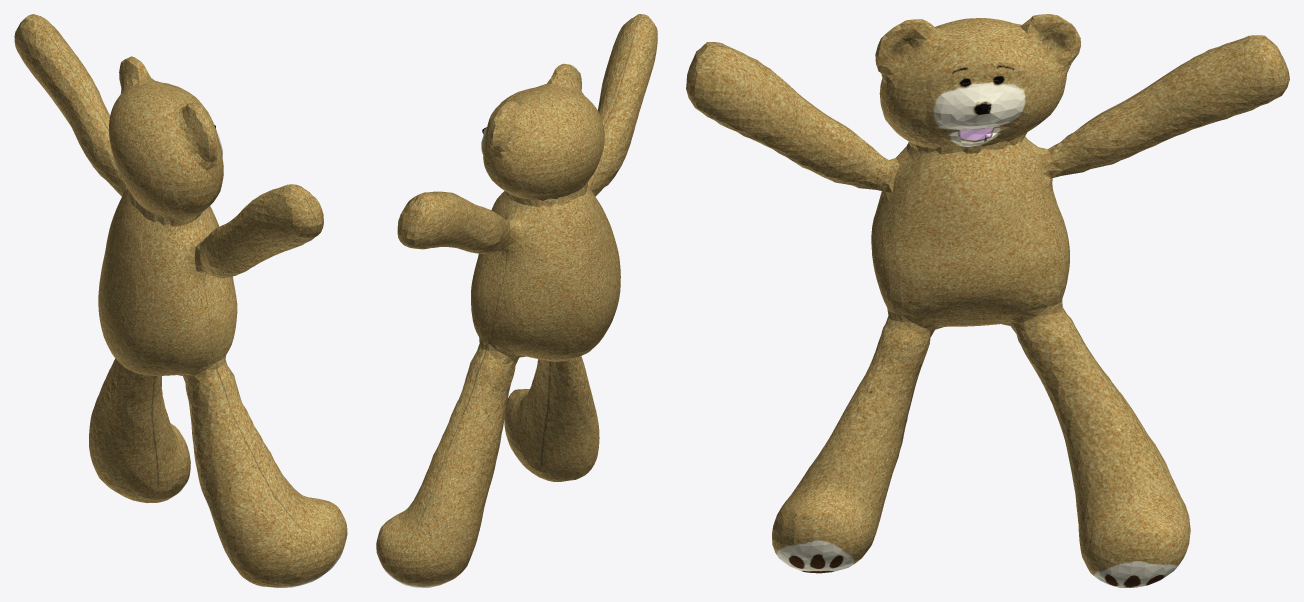
File: teddy_aug_7.obj
3 renders of one model, left to right at view 1: azimuth 30°, elevation 25°; view 2: azimuth 150°, elevation 25°; view 3: azimuth 270°, elevation 25°, orthographic. The views are drawn at different scales.
Size of the model in its own units: 36.85 by 101 by 102.
Materials: 1 (1 with a texture image).
